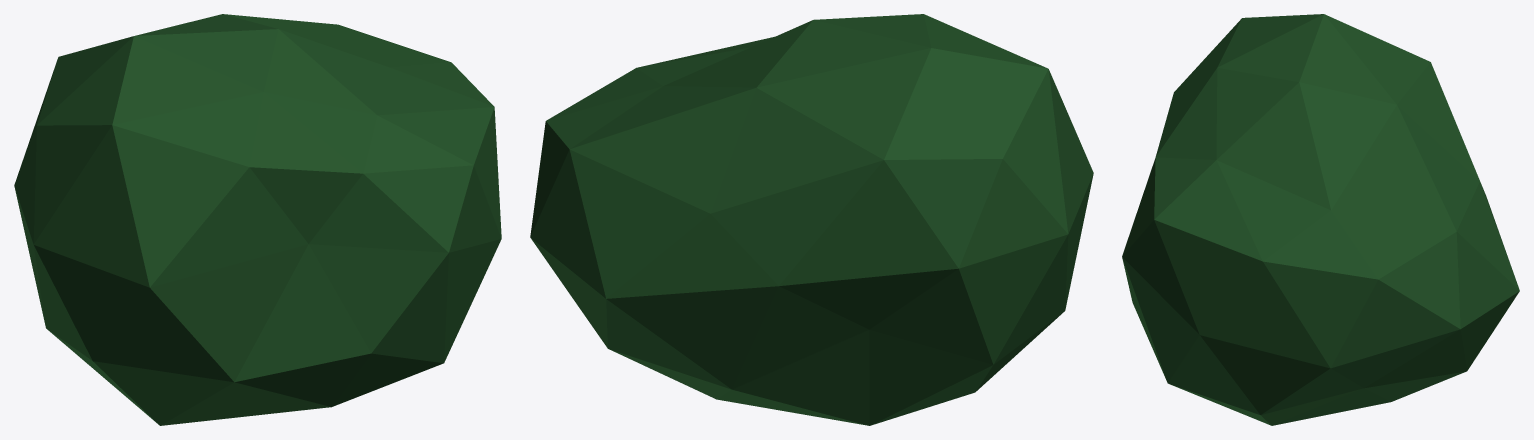
Rendered from bush_one.glb.
3 views of the same model, side by side, from view 1: azimuth 30°, elevation 25°; view 2: azimuth 150°, elevation 25°; view 3: azimuth 270°, elevation 25° (orthographic). The views are drawn at different scales.
Visible parts, largest first — view 1: LeafLobe.001; view 2: LeafLobe.001; view 3: LeafLobe.001.
Part boxes in pixels (<box>): LeafLobe.001: <box>14,14,501,425</box>; LeafLobe.001: <box>530,14,1093,425</box>; LeafLobe.001: <box>1122,14,1519,425</box>.
Bounding box in the file's own units: 10.67 × 7.98 × 8.93.
